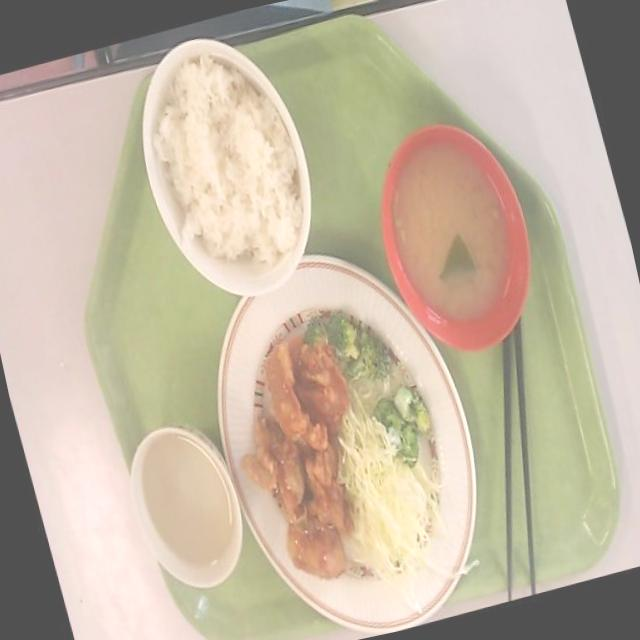Rice: (126, 39, 320, 278)
